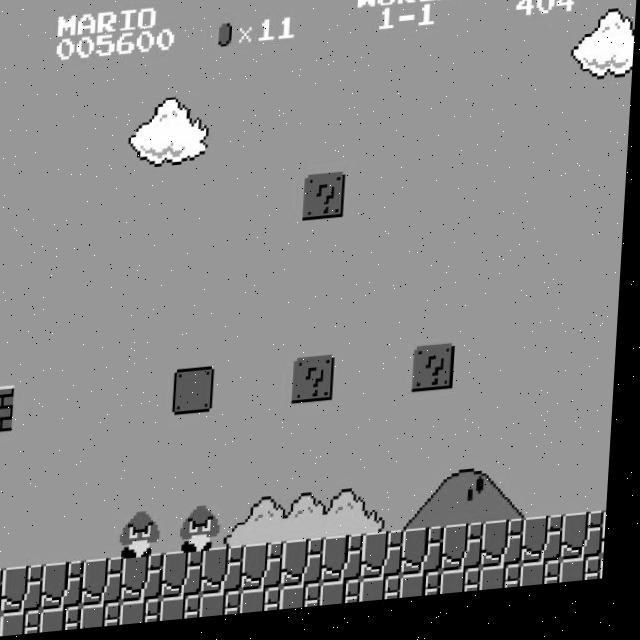1- brick_block: (0, 386, 19, 434)
11- little_mario: (127, 428, 172, 481)
13- mystery_block: (297, 361, 340, 410), (417, 352, 460, 401), (305, 179, 348, 227)
17- undestructible_block: (128, 556, 171, 606), (168, 553, 211, 603), (208, 550, 251, 600), (248, 547, 291, 597), (8, 566, 51, 615), (48, 563, 91, 612), (88, 560, 131, 609), (288, 544, 331, 593), (328, 541, 371, 590), (368, 538, 411, 587), (408, 535, 451, 584), (448, 532, 491, 581), (488, 529, 531, 578), (528, 526, 571, 575), (568, 523, 611, 572), (7, 611, 49, 637), (47, 608, 89, 634), (87, 605, 129, 631), (127, 602, 169, 628), (167, 599, 209, 625), (207, 596, 249, 622), (247, 593, 289, 619), (287, 590, 329, 616), (327, 587, 369, 613), (367, 584, 409, 610), (407, 581, 449, 607), (447, 578, 489, 604), (487, 575, 529, 601), (527, 572, 569, 598), (567, 569, 609, 595), (0, 569, 10, 618), (608, 523, 613, 569), (0, 614, 8, 640), (607, 569, 611, 591)
3- empty_block: (177, 370, 220, 420)
8- goomba: (183, 506, 229, 559), (123, 511, 169, 563)
